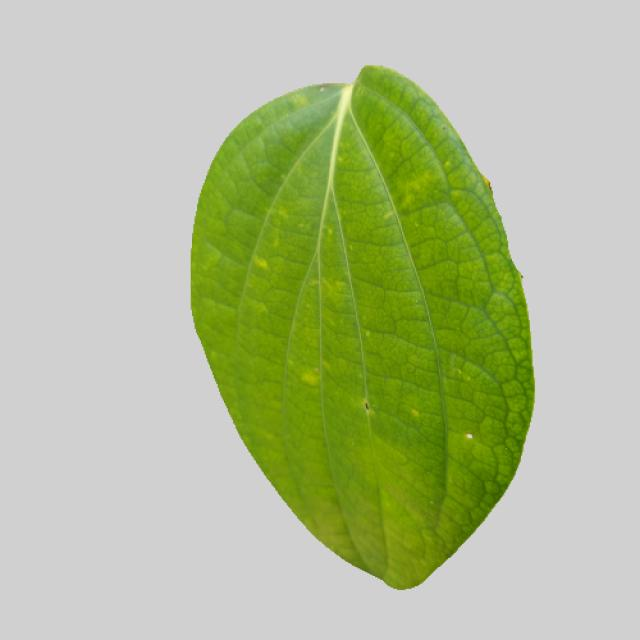healthy: (168, 62, 538, 594)
